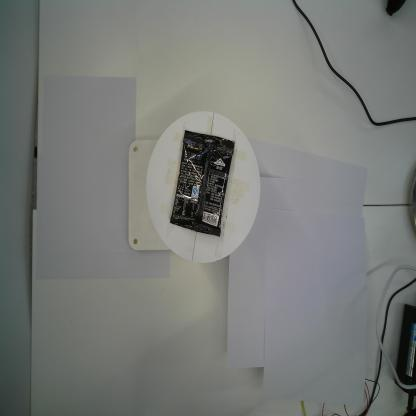Instant Drink: (170, 130, 235, 237)
